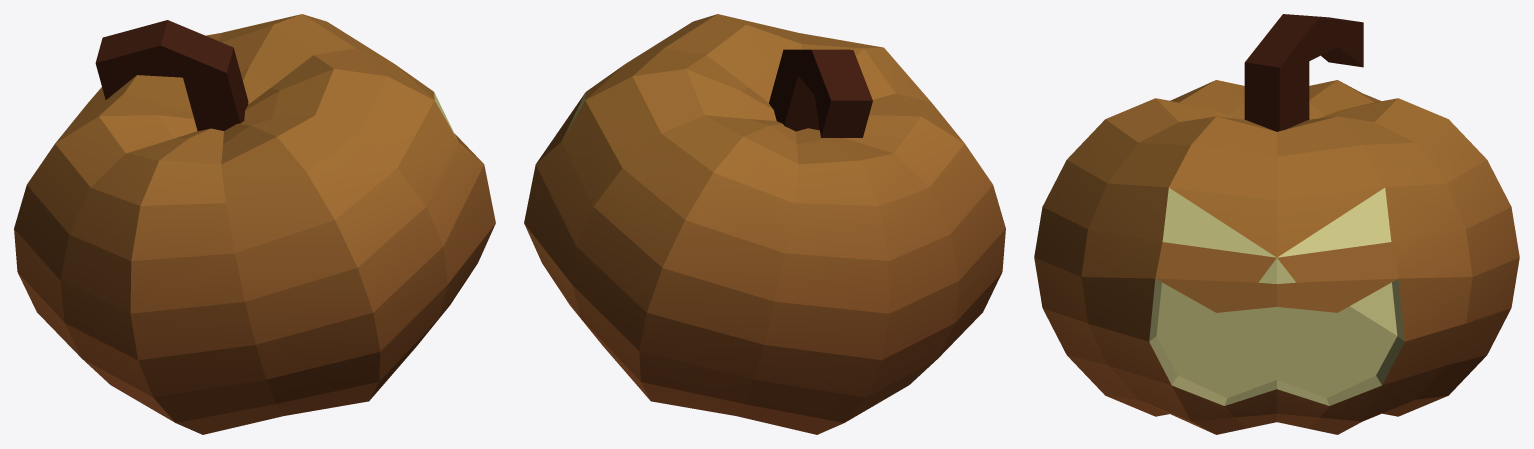
The model's file is pumpkin tower.fbx.
3 renders of one model, left to right at view 1: azimuth 30°, elevation 25°; view 2: azimuth 150°, elevation 25°; view 3: azimuth 270°, elevation 25°, orthographic.
Visible parts, largest first — view 1: Cube.183; view 2: Cube.183; view 3: Cube.183.
Part boxes in pixels (x1=…): Cube.183: x1=14, y1=14, x2=495, y2=434; Cube.183: x1=524, y1=14, x2=1005, y2=434; Cube.183: x1=1034, y1=14, x2=1519, y2=434.
Bounding box in the file's own units: 110 × 102 × 120.
